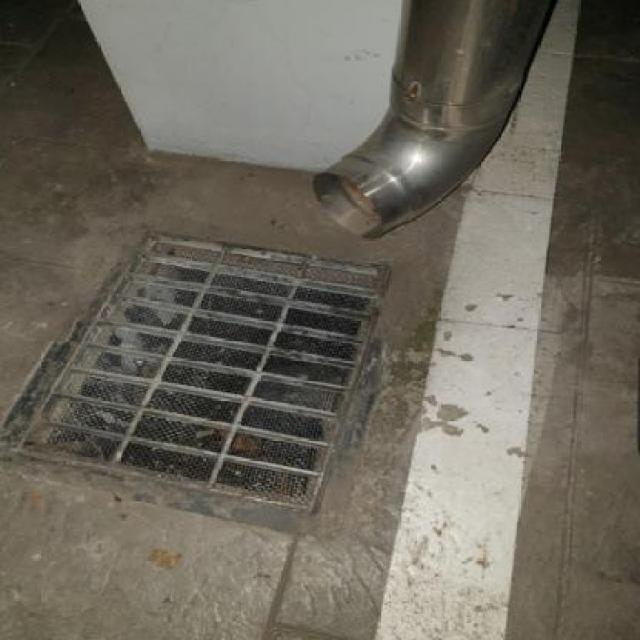Drain Hole: (46, 234, 386, 525)
